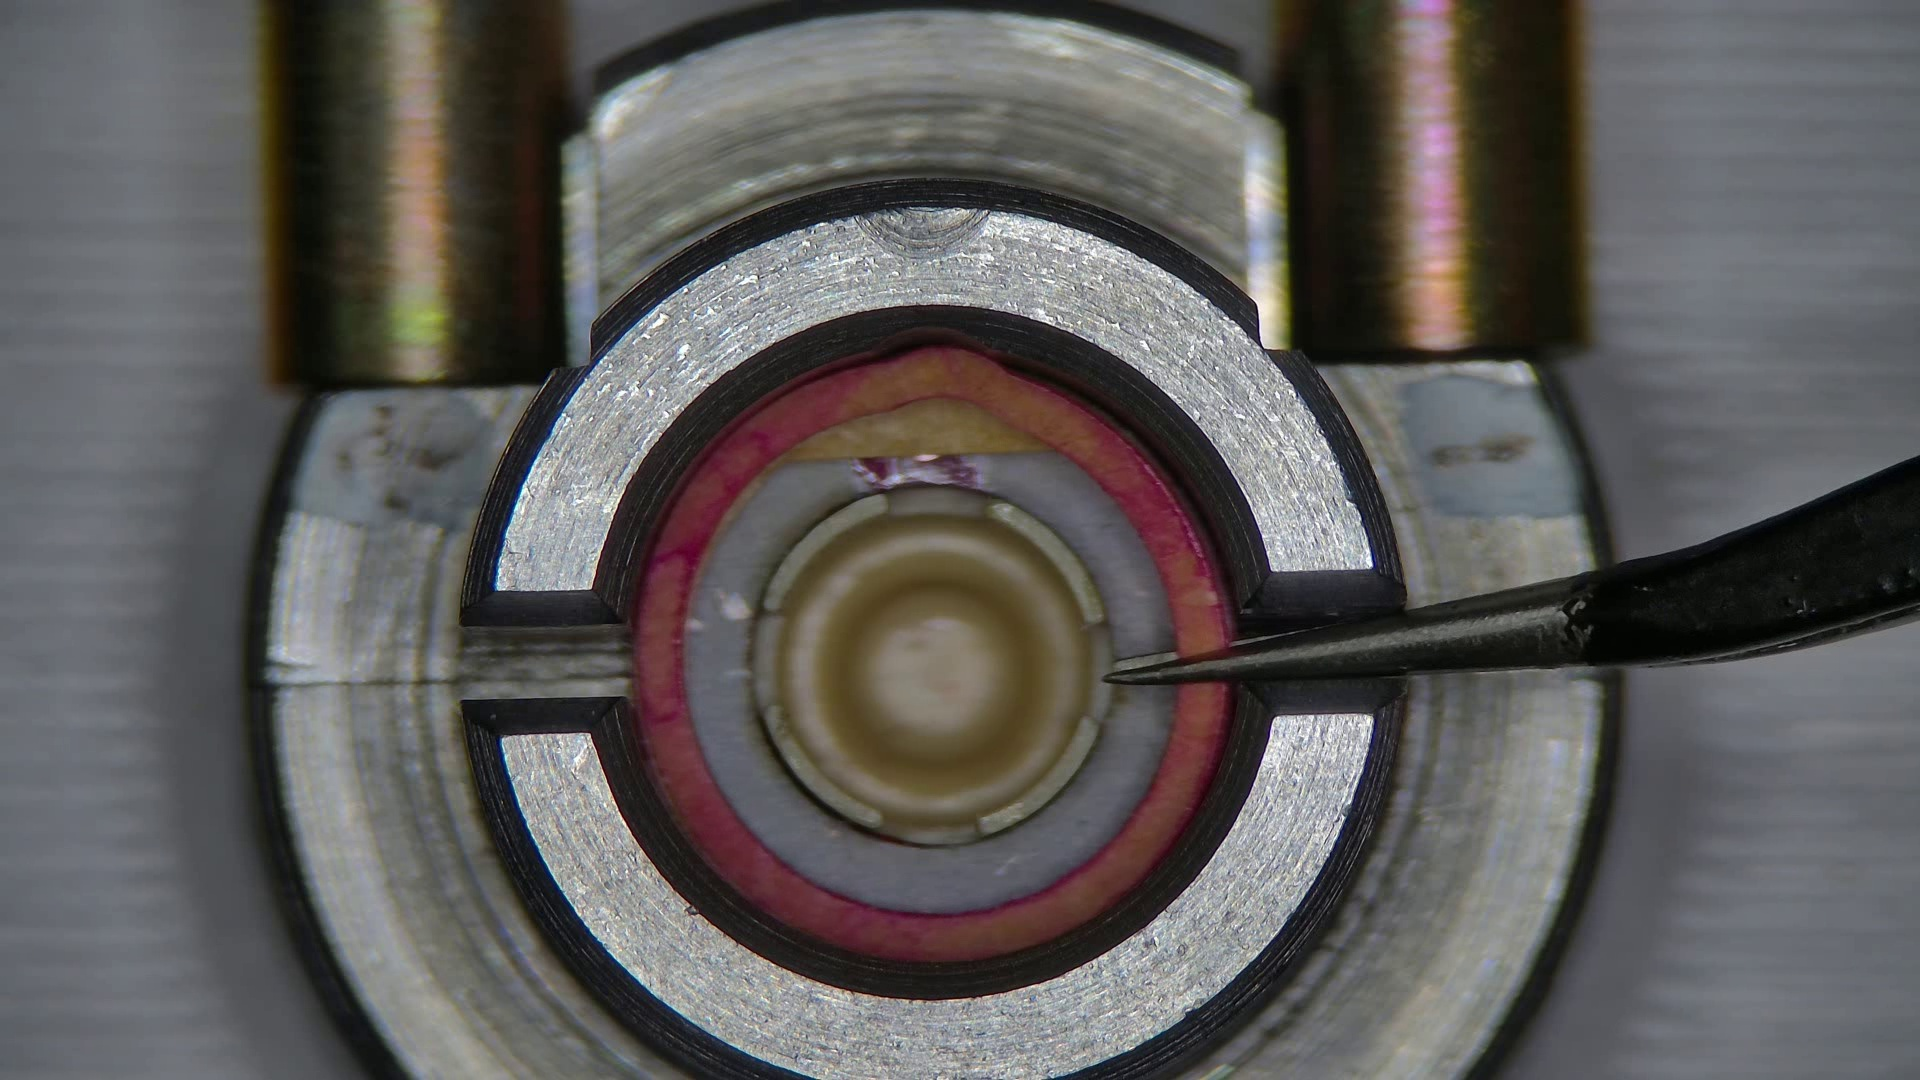GreyOring: (636, 344, 1229, 963)
YellowOring: (690, 454, 1172, 911)
redOring: (779, 400, 1048, 460)
